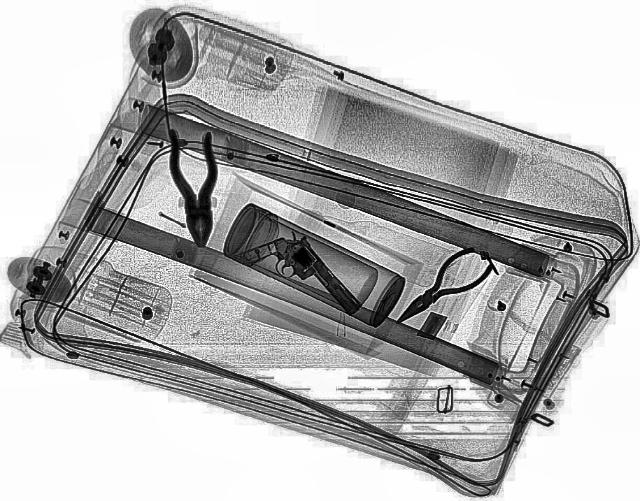Gun: (244, 224, 362, 336)
Pliers: (374, 242, 504, 334), (165, 127, 223, 246)
